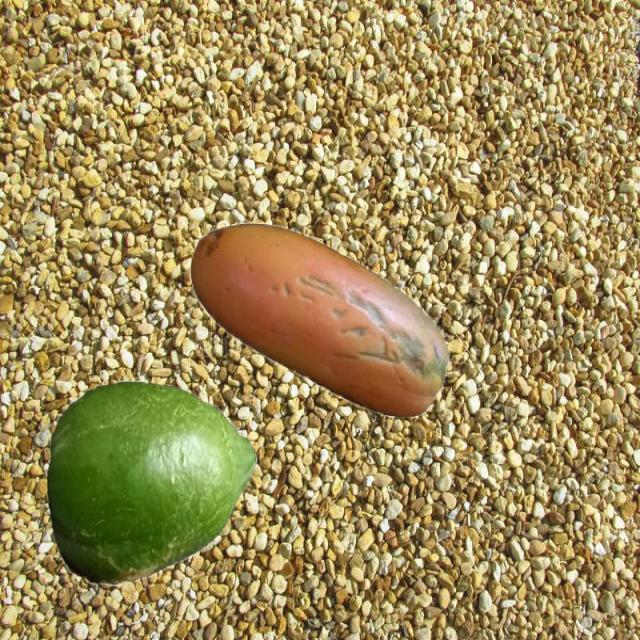Pepaya rippen: (184, 216, 446, 435)
Pepaya unrippen: (38, 380, 258, 575)
